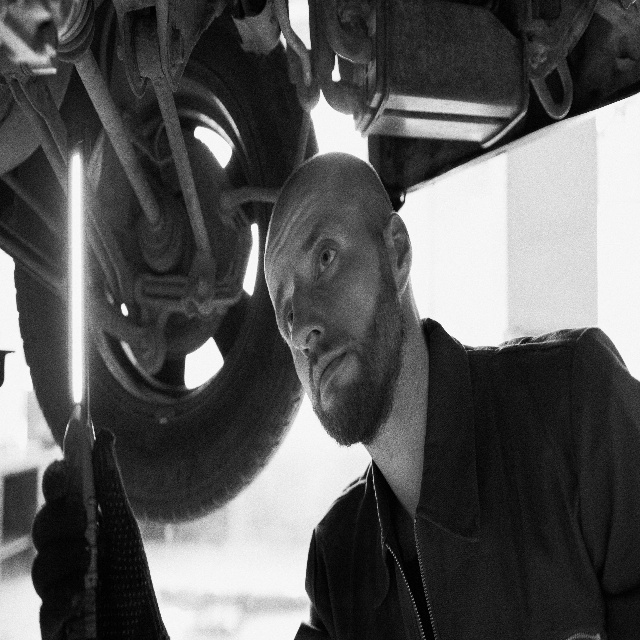Guantes: (30, 426, 167, 640)
